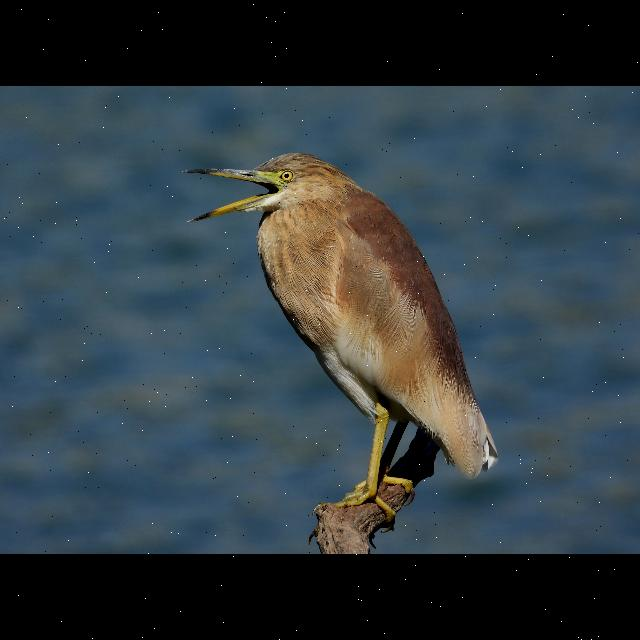heron: (174, 141, 504, 524)
